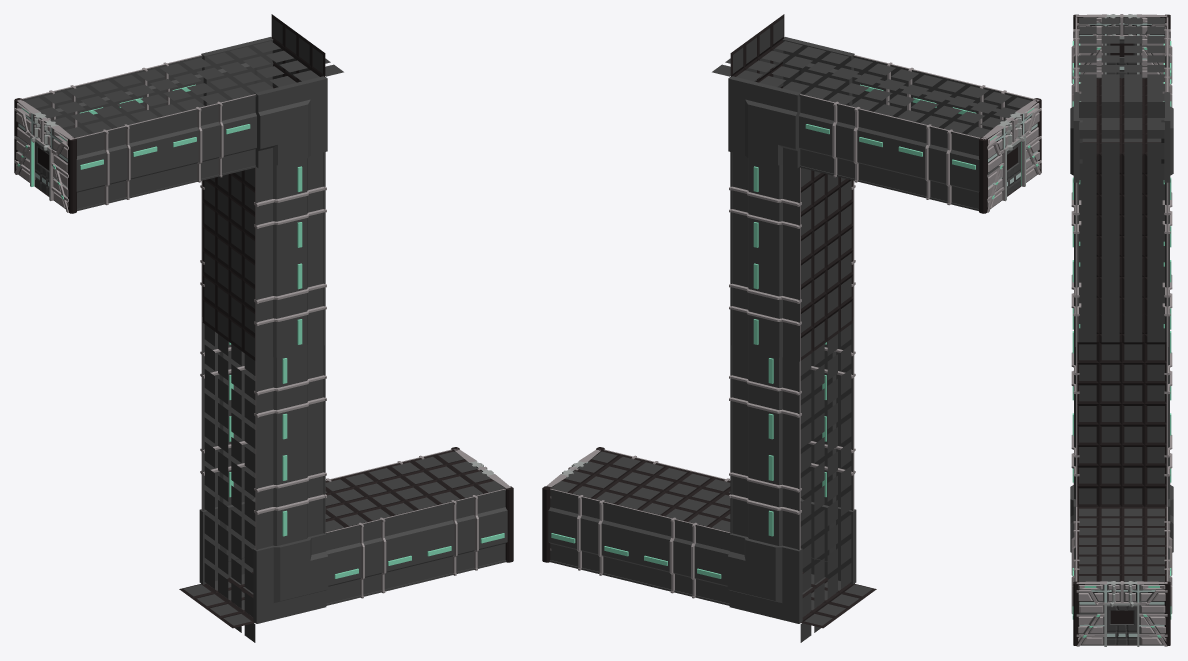
Rendered from room8.fbx.
3 renders of one model, left to right at view 1: azimuth 30°, elevation 25°; view 2: azimuth 150°, elevation 25°; view 3: azimuth 270°, elevation 25°, orthographic. The views are drawn at different scales.
Visible parts, largest first — view 1: walls, door, door.001; view 2: walls, door, door.001; view 3: walls, door.001, door.
Part boxes in pixels (<box>): walls: <box>22,14,507,642</box>; door: <box>14,98,76,213</box>; door.001: <box>451,447,513,562</box>; walls: <box>548,14,1039,642</box>; door: <box>979,98,1041,213</box>; door.001: <box>542,447,604,562</box>; walls: <box>1070,15,1173,645</box>; door.001: <box>1073,581,1170,646</box>; door: <box>1073,14,1170,78</box>.
Bounding box in the file's own units: 1950 × 2377 × 455.
